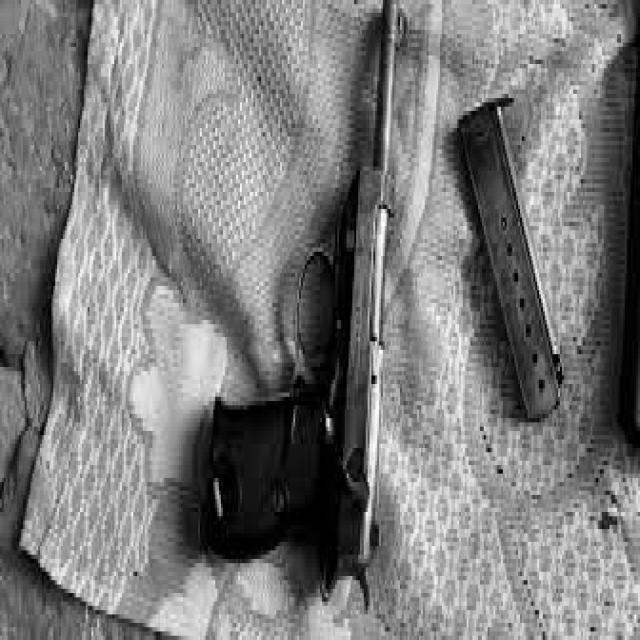handgun: (207, 0, 401, 603)
